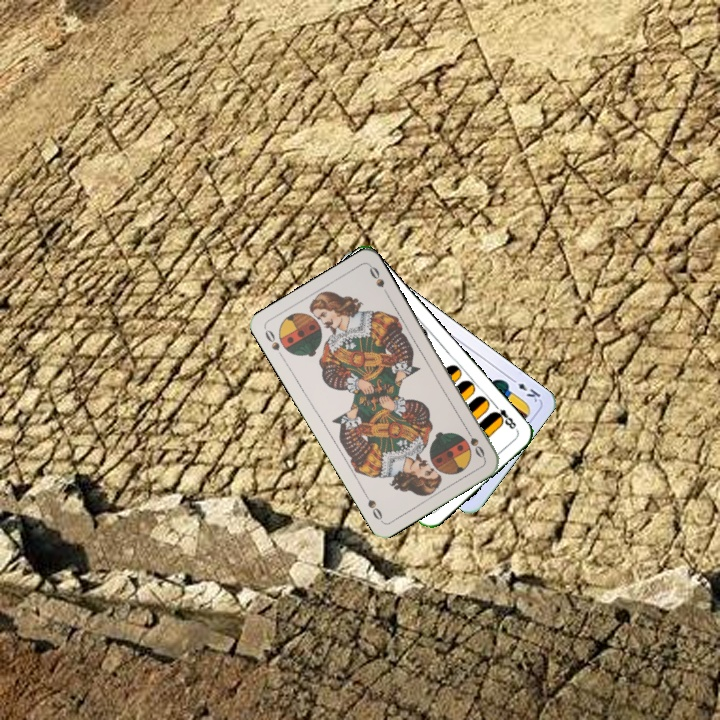E8: (488, 400, 520, 433)
EK: (506, 374, 543, 405)
SO: (462, 424, 488, 461), (261, 325, 287, 362)
